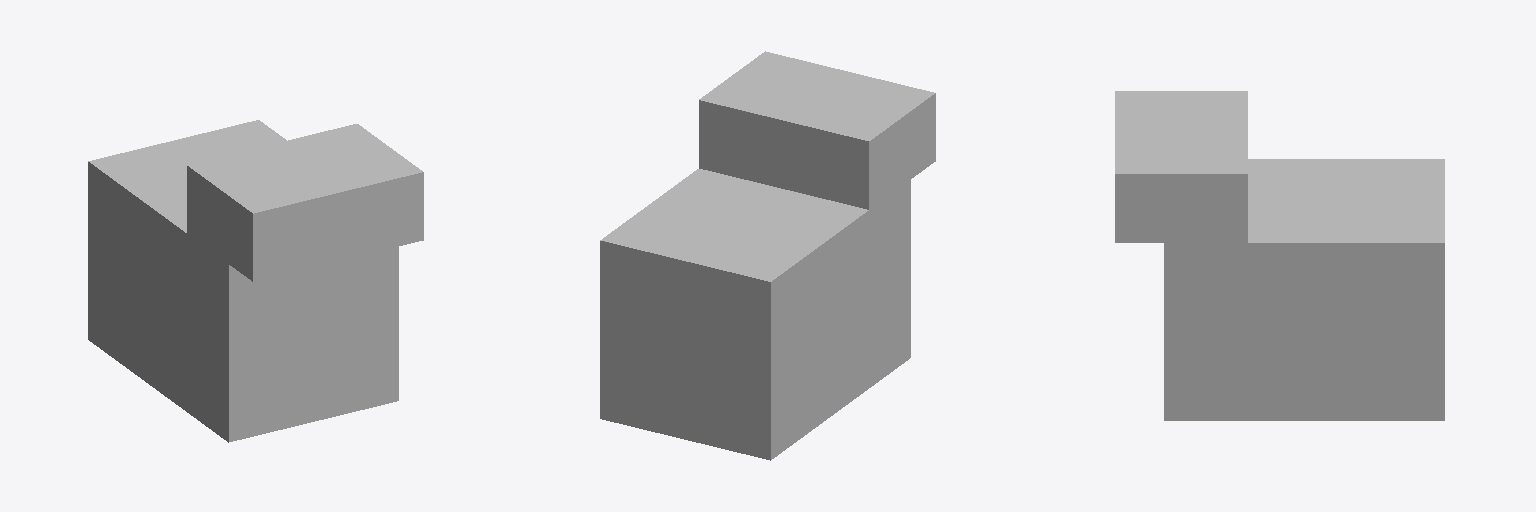
The picture shows the model from 3 angles: view 1: azimuth 30°, elevation 25°; view 2: azimuth 150°, elevation 25°; view 3: azimuth 270°, elevation 25°; orthographic projection.
Visible parts, largest first — view 1: 立方体; view 2: 立方体; view 3: 立方体.
Boxes of the visible parts, x1=… form: 立方体: x1=88, y1=120, x2=423, y2=442; 立方体: x1=600, y1=51, x2=935, y2=460; 立方体: x1=1115, y1=91, x2=1444, y2=420.
Size of the model in its own units: 11.68 by 16.16 by 19.56.